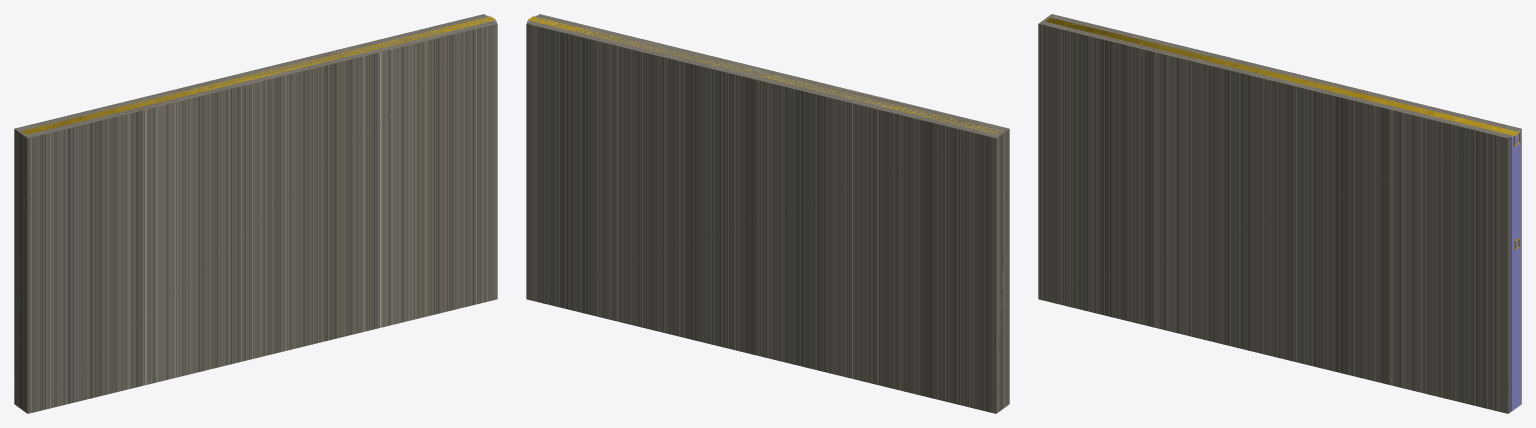
File: walkway_01_railing_short.DAE
3 views of the same model, side by side, from view 1: azimuth 30°, elevation 25°; view 2: azimuth 150°, elevation 25°; view 3: azimuth 330°, elevation 25° (orthographic).
Parts seen in each view (by area): view 1: colbox-01, walkway_01_rail_short; view 2: colbox-01, walkway_01_rail_short; view 3: colbox-01, bounds, walkway_01_rail_short.
Part boxes in pixels (box(x1,y1,x2,y2)): colbox-01: box(14, 14, 497, 413); walkway_01_rail_short: box(22, 16, 496, 134); colbox-01: box(526, 14, 1009, 413); walkway_01_rail_short: box(527, 16, 999, 134); colbox-01: box(1038, 14, 1521, 413); bounds: box(1510, 130, 1520, 411); walkway_01_rail_short: box(1046, 18, 1520, 249).
Size of the model in its own units: 307 by 15 by 171.
3 materials, 2 textured.
